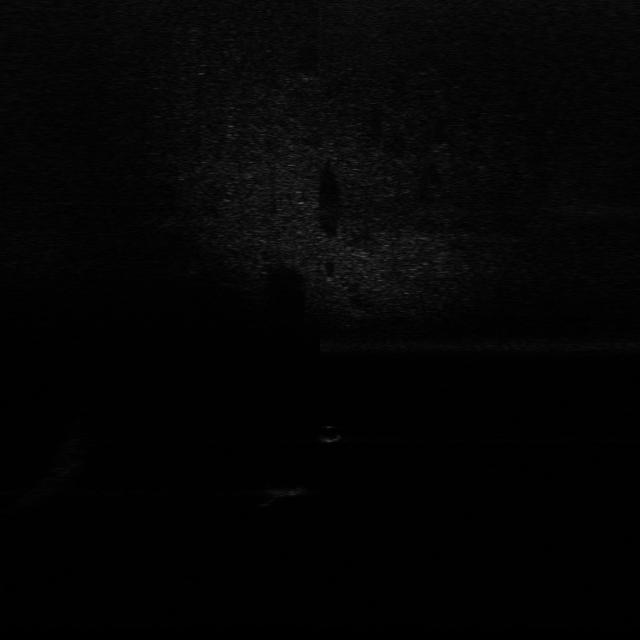ball: (308, 422, 347, 446)
square cage: (253, 479, 324, 498)
